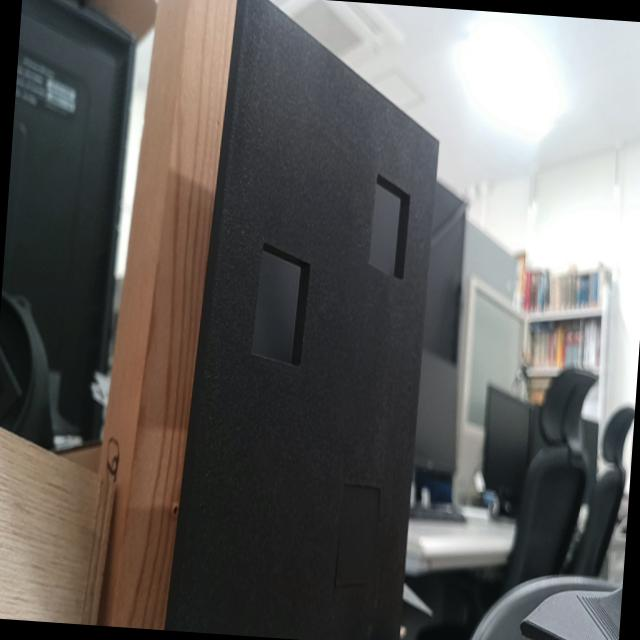Obstacle: (251, 242, 311, 365), (370, 175, 410, 275)
Wall: (177, 0, 437, 640)
